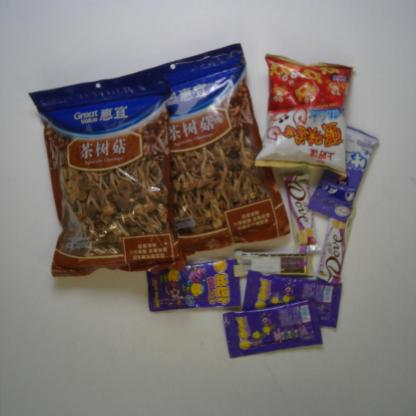Candy: (306, 124, 382, 225), (222, 296, 325, 359), (242, 268, 344, 328), (145, 258, 242, 314)
Chocolate: (313, 200, 359, 285), (282, 167, 322, 254), (232, 247, 319, 280)
Dried Food: (26, 70, 193, 279), (139, 42, 293, 257)
Puffed Food: (253, 52, 355, 179)
